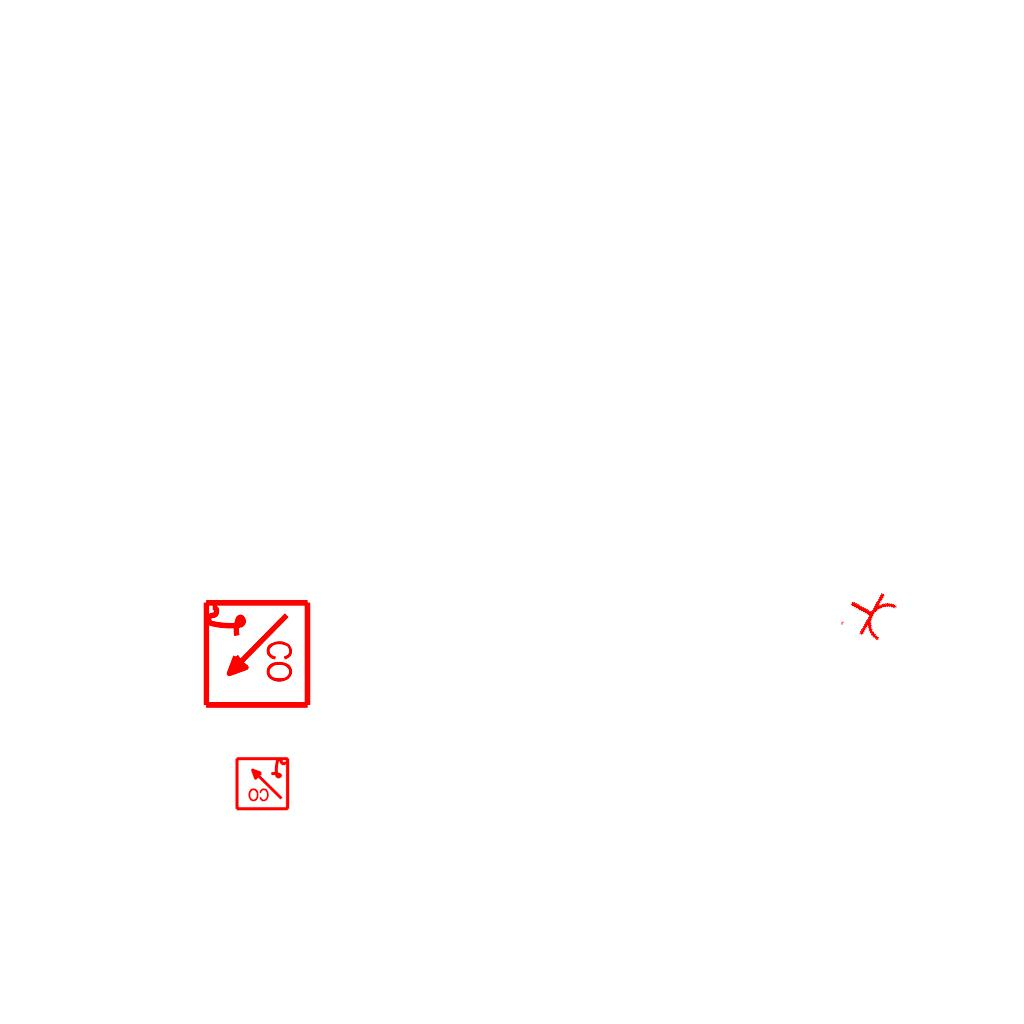ROA_Rauchmelder_optisch_mit_Signalgeber_(Sockelsirene): (199, 598, 312, 711), (234, 755, 290, 811)
Schukosteckdose_einfach: (838, 581, 901, 647)
